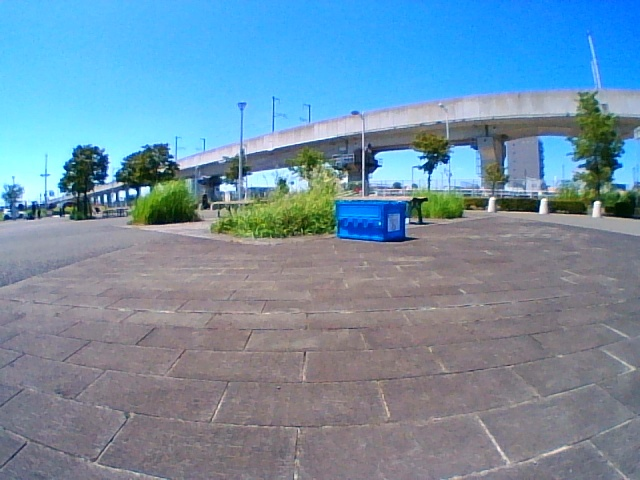blue_box: (336, 201, 404, 239)
tag: (388, 214, 400, 232)
